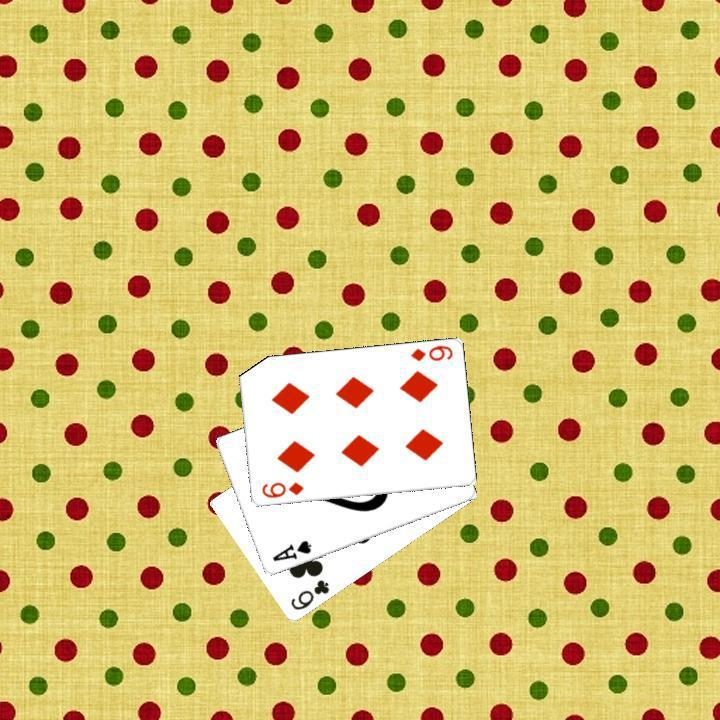6: (286, 576, 331, 613), (257, 478, 305, 500), (406, 341, 454, 363)
A: (268, 536, 313, 564)
